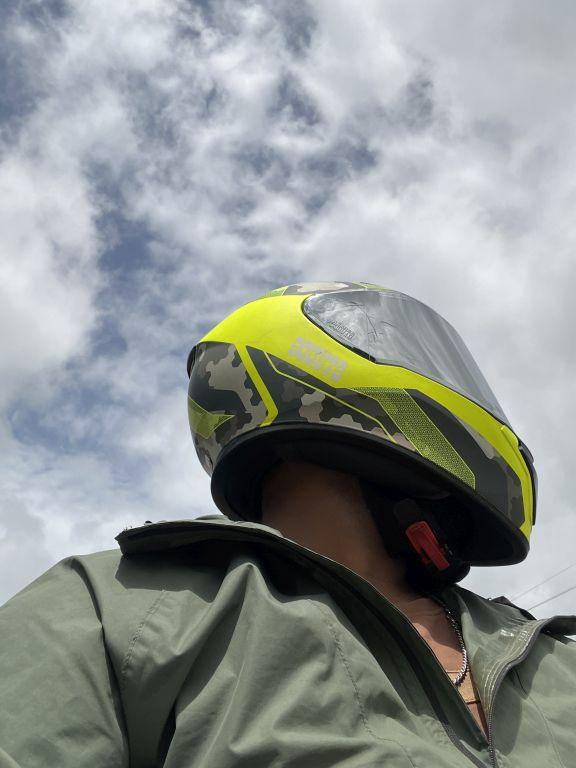helmet: (172, 265, 552, 609)
